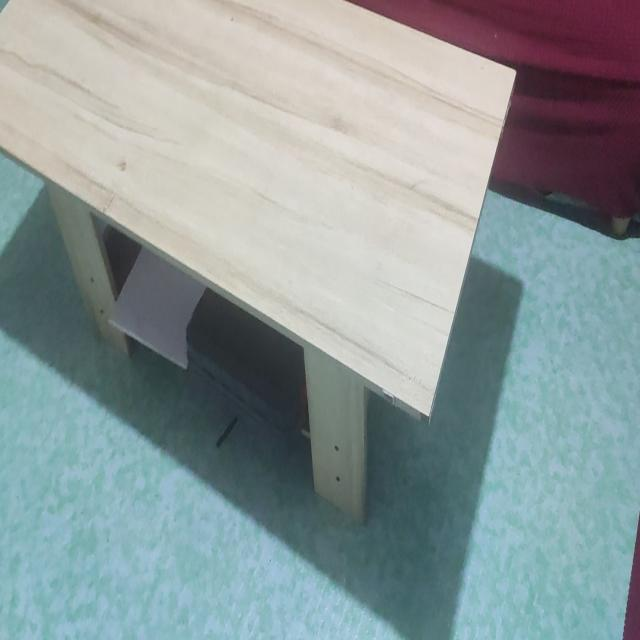table: (0, 0, 524, 538)
